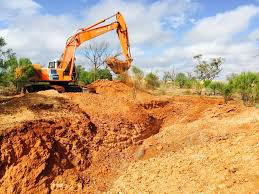excavator: (14, 12, 134, 95)
